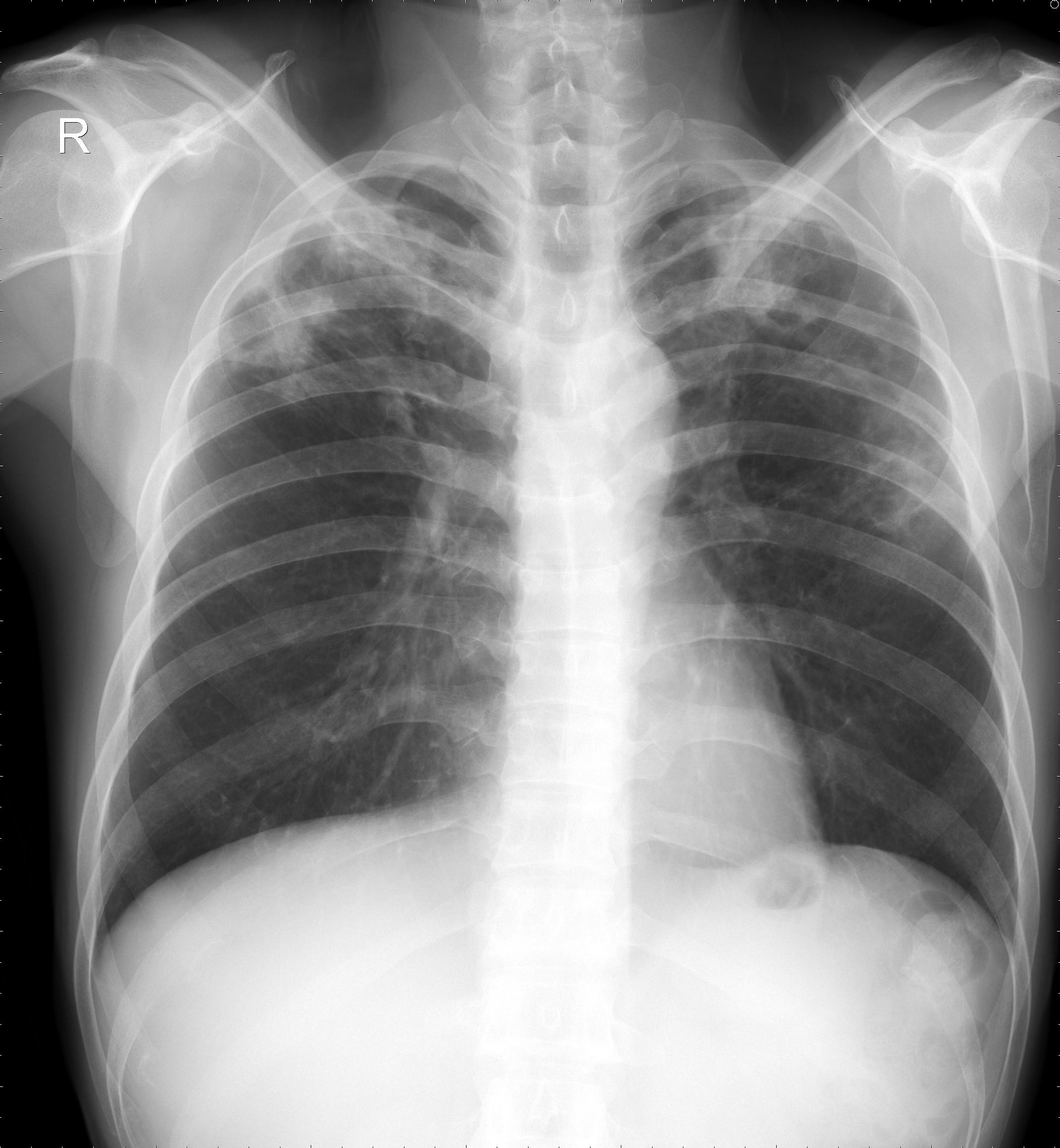Pleural thickening: (210, 184, 483, 468)
Pulmonary fibrosis: (834, 298, 967, 530)
